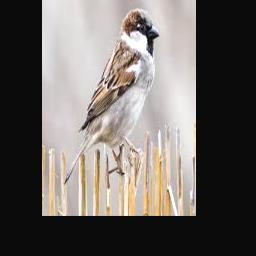Sparrow: (64, 7, 160, 184)
